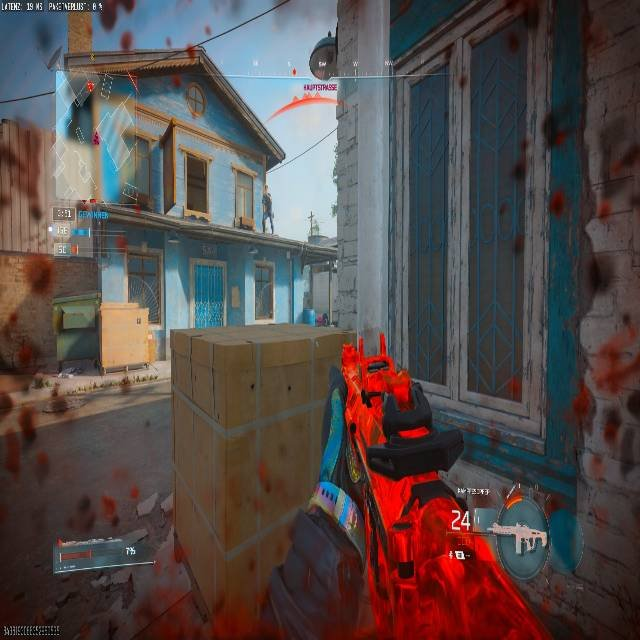player: (316, 312, 328, 327)
